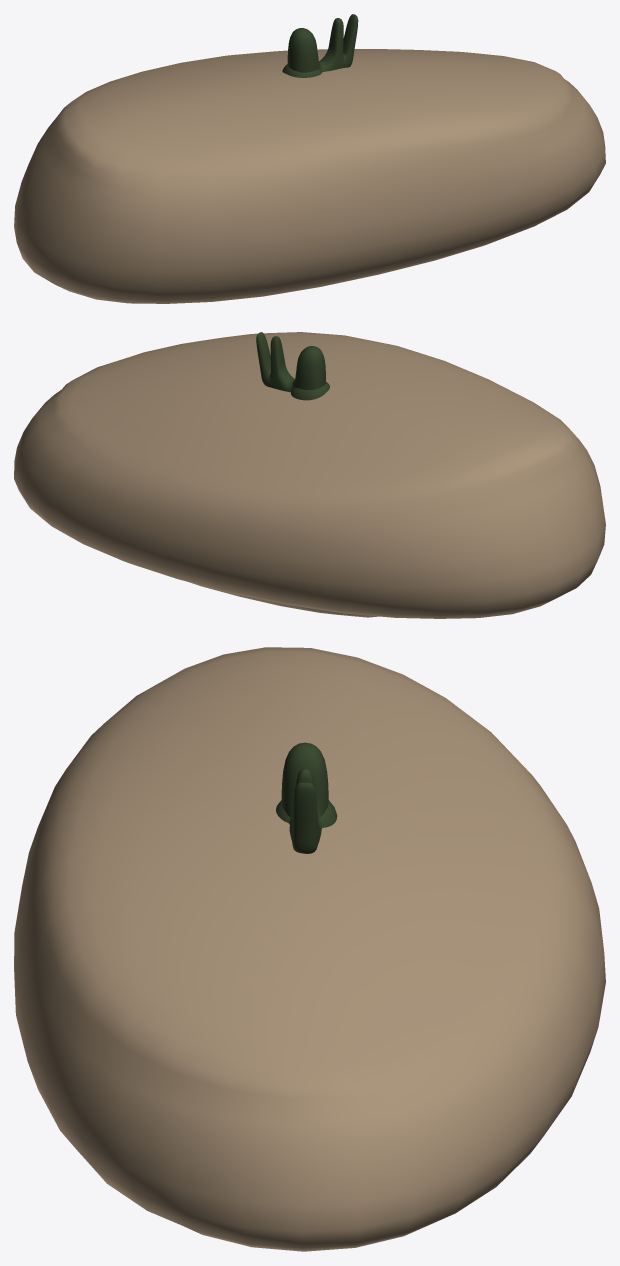
Rendered from DesertKitV1-3.fbx.
3 renders of one model, top to bottom at view 1: azimuth 30°, elevation 25°; view 2: azimuth 150°, elevation 25°; view 3: azimuth 270°, elevation 25°, orthographic. The views are drawn at different scales.
Parts seen in each view (by area): view 1: pasted__boulder_2, pasted__cactus_3; view 2: pasted__boulder_2, pasted__cactus_3, pasted__boulder_3, pasted__cactus_1; view 3: pasted__boulder_2, pasted__cactus_3.
Part boxes in pixels (<box>): pasted__boulder_2: <box>14,49,605,303</box>; pasted__cactus_3: <box>287,14,358,72</box>; pasted__boulder_2: <box>14,332,605,618</box>; pasted__cactus_3: <box>256,332,325,392</box>; pasted__boulder_3: <box>190,582,378,617</box>; pasted__cactus_1: <box>291,382,329,400</box>; pasted__boulder_2: <box>14,647,605,1251</box>; pasted__cactus_3: <box>281,742,328,853</box>.
Size of the model in its own units: 437 by 166 by 255.
